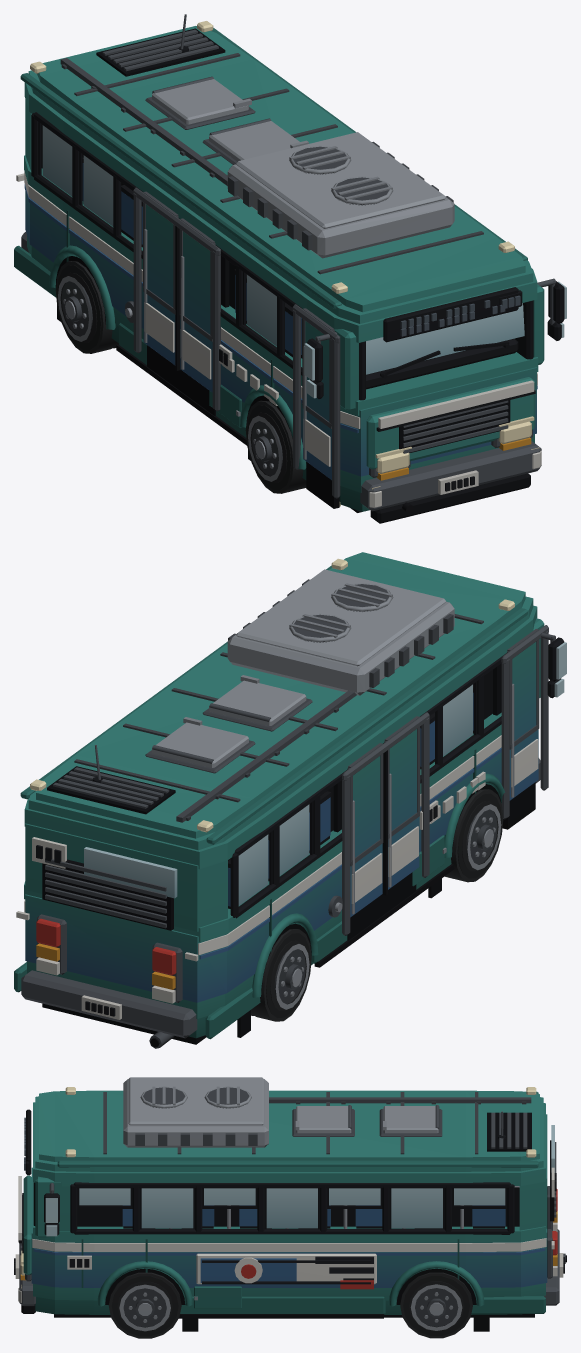
Rendered from city_bus_01.glb.
3 views of the same model, one above another, from view 1: azimuth 30°, elevation 25°; view 2: azimuth 150°, elevation 25°; view 3: azimuth 270°, elevation 25° (orthographic). The views are drawn at different scales.
Visible parts, largest first — view 1: city_bus_01; view 2: city_bus_01; view 3: city_bus_01.
Part boxes in pixels (x1,y1,x2,y2): city_bus_01: (14,14,566,523); city_bus_01: (14,552,566,1048); city_bus_01: (14,1077,566,1338).
Bounding box in the file's own units: 1.91 × 1.92 × 4.71.
